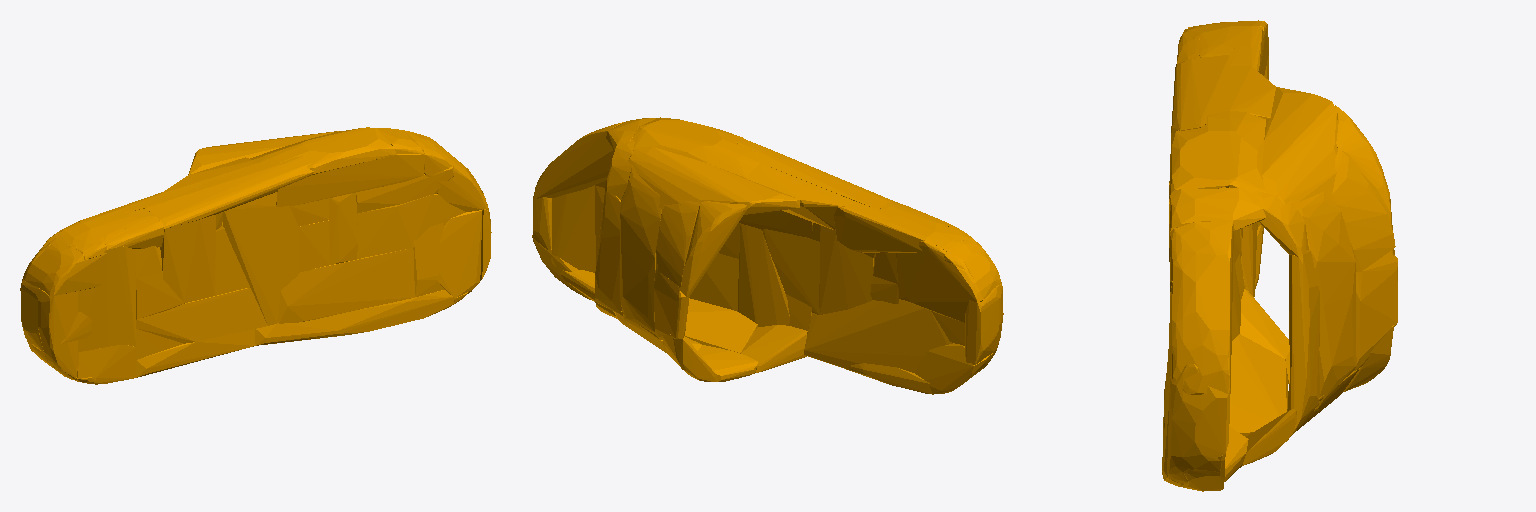
robot.urdf — shoe-sky:
<?xml version="1.0" ?>
<robot name="shoe-sky">
  <link name="baseLink">
    <contact>
      <lateral_friction value="1.0"/>
      <inertia_scaling value="3.0"/>
    </contact>
    <inertial>
      <origin rpy="0 0 0" xyz="0.000 0.000 0.000"/>
       <mass value=".1"/>
       <inertia ixx="1" ixy="0.0" ixz="0.0" iyy="1" iyz="0.0" izz="1"/>
    </inertial>
    <visual>
      <origin rpy="0 0 0" xyz="0 0 0"/>
      <geometry>
        <mesh filename="shoe/shoe-sky_blue_holes_right.obj" scale="1.0 1.0 1.0"/>
      </geometry>
    </visual>
    <collision>
      <origin rpy="0 0 0" xyz="0 0 0"/>
      <geometry>
        <mesh filename="../collision/shoe/shoe-sky_blue_holes_right.obj" scale="1.0 1.0 1.0"/>
      </geometry>
    </collision>
  </link>
</robot>
        

--- Render facts (derived) ---
The picture shows the robot from 3 angles, left to right: view 1: azimuth 30°, elevation 25°; view 2: azimuth 150°, elevation 25°; view 3: azimuth 270°, elevation 25°; orthographic projection.
Model shoe-sky with 1 links and 0 joints (none), rooted at baseLink, posed all joints at 0.
Visible links, largest first — view 1: baseLink; view 2: baseLink; view 3: baseLink.
Boxes of the visible links, x1,y1,x2,y2 form: baseLink: (20, 127, 491, 384); baseLink: (532, 117, 1003, 394); baseLink: (1162, 20, 1397, 491).
Bounding box of the posed robot: 0.2444 × 0.0765 × 0.0999 m (x, y, z).
Meshes: 1 distinct files referenced, 1 mesh visuals loaded (1 OBJ).